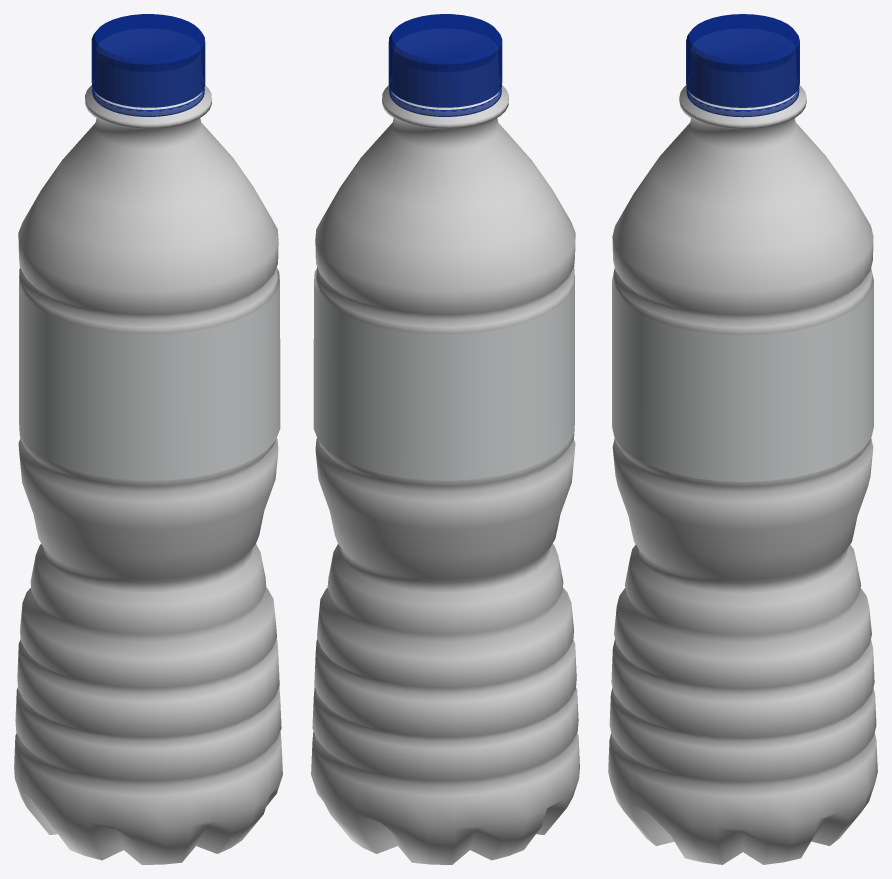
Rendered from bottle.glb.
3 views of the same model, side by side, from view 1: azimuth 30°, elevation 25°; view 2: azimuth 150°, elevation 25°; view 3: azimuth 270°, elevation 25° (orthographic).
Visible parts, largest first — view 1: bottle, label, cap, cap2; view 2: bottle, label, cap, cap2; view 3: bottle, label, cap, cap2.
Part boxes in pixels (x1,y1,x2,y2): bottle: (14, 85, 282, 864); label: (19, 268, 280, 480); cap: (91, 14, 205, 107); cap2: (92, 87, 204, 116); bottle: (311, 85, 579, 864); label: (313, 268, 574, 480); cap: (388, 14, 502, 107); cap2: (389, 87, 501, 116); bottle: (608, 85, 877, 864); label: (612, 274, 873, 481); cap: (686, 14, 799, 107); cap2: (686, 88, 799, 117).
Size of the model in its own units: 0.0652 by 0.2097 by 0.0652.
